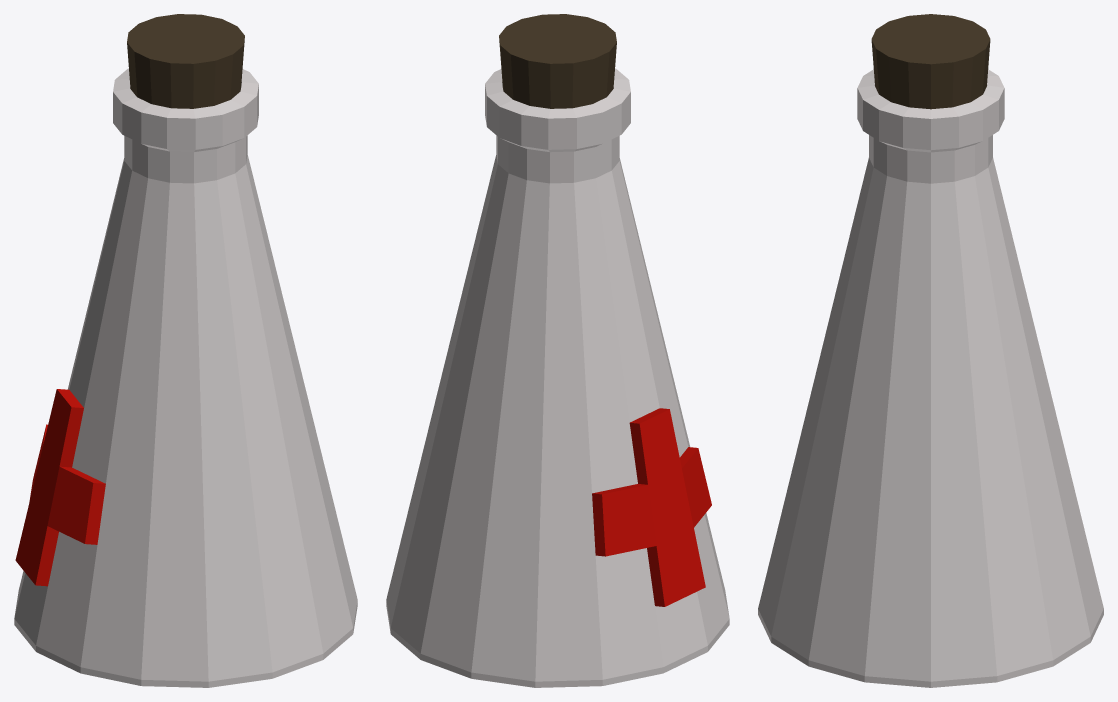
The model's file is Antivenom1star.fbx.
3 renders of one model, left to right at view 1: azimuth 30°, elevation 25°; view 2: azimuth 150°, elevation 25°; view 3: azimuth 270°, elevation 25°, orthographic.
Parts seen in each view (by area): view 1: Bottle; view 2: Bottle; view 3: Bottle.
Boxes of the visible parts, x1,y1,x2,y2 form: Bottle: (14, 14, 357, 687); Bottle: (386, 14, 729, 687); Bottle: (758, 14, 1103, 687).
Size of the model in its own units: 136 by 249 by 136.
